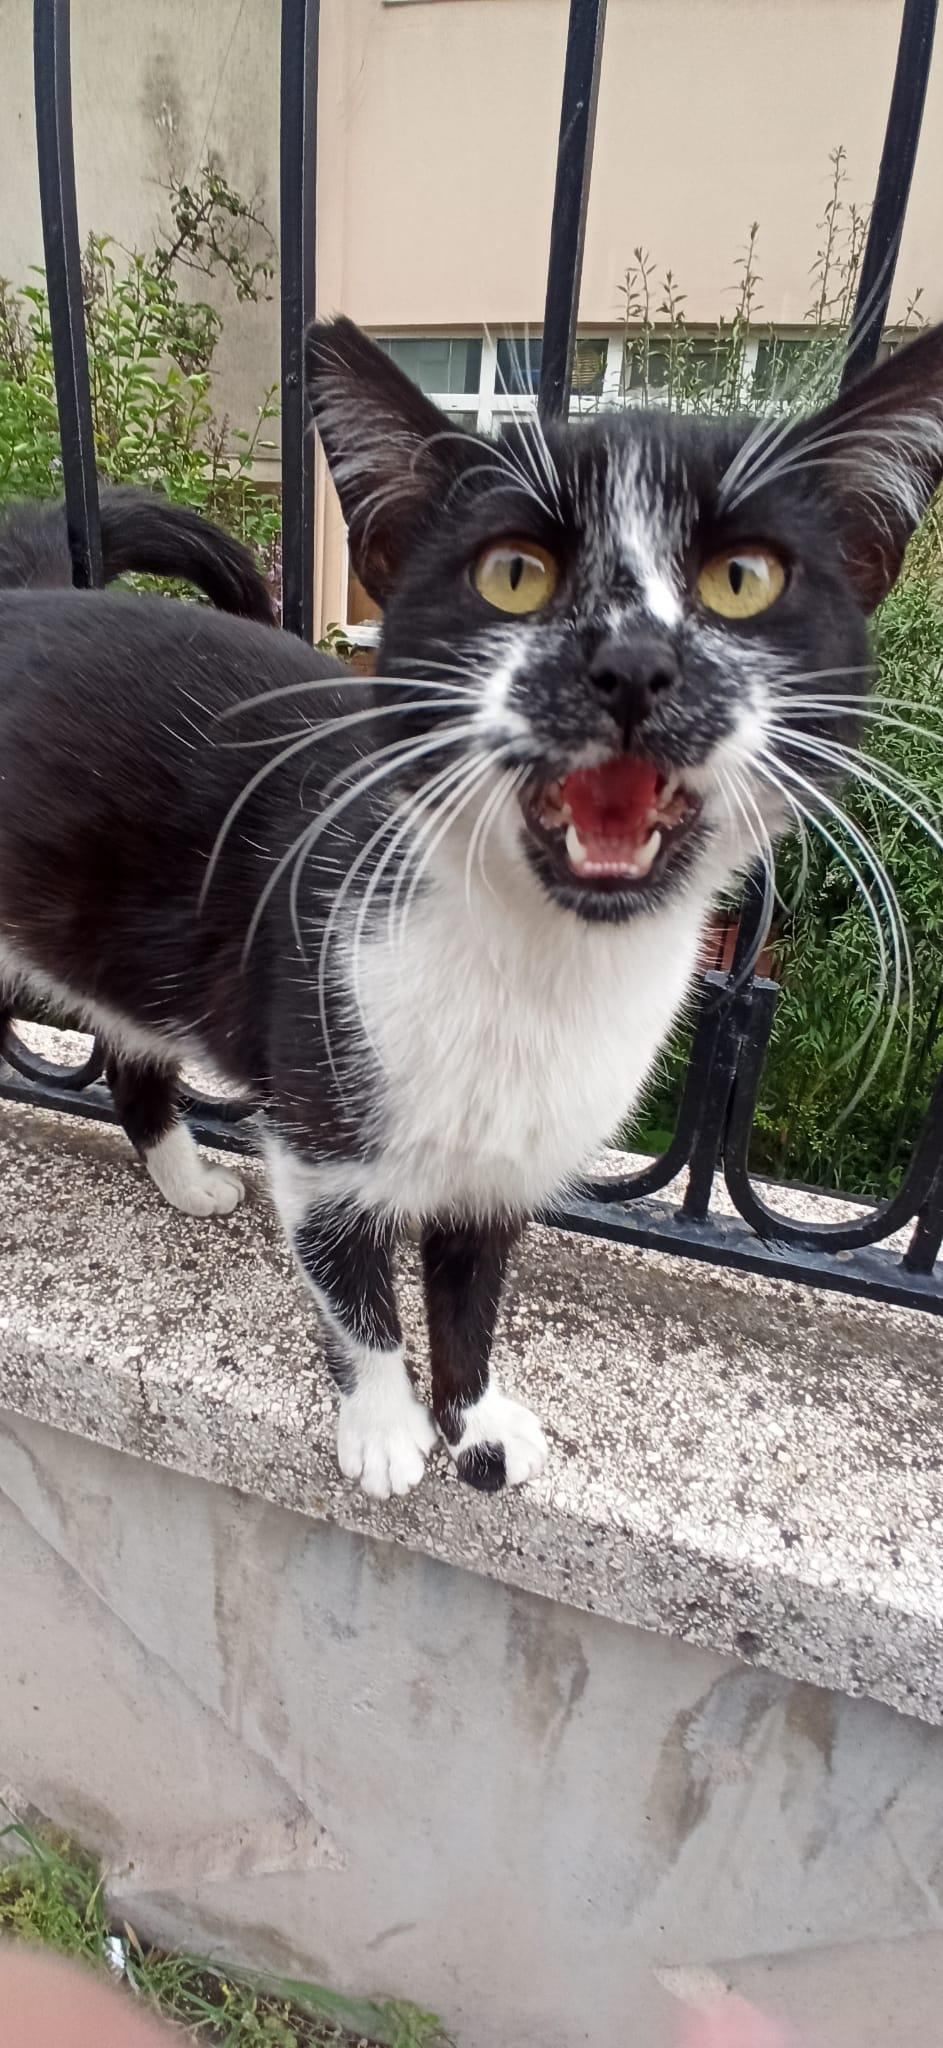kedo: (0, 314, 943, 1512)
